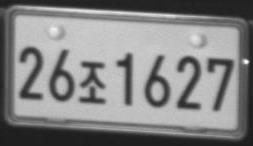1: (113, 52, 138, 106)
2: (176, 55, 202, 110), (18, 46, 44, 100)
6: (144, 55, 172, 107), (48, 49, 75, 101)
7: (205, 58, 235, 112)
조: (79, 61, 107, 104)
